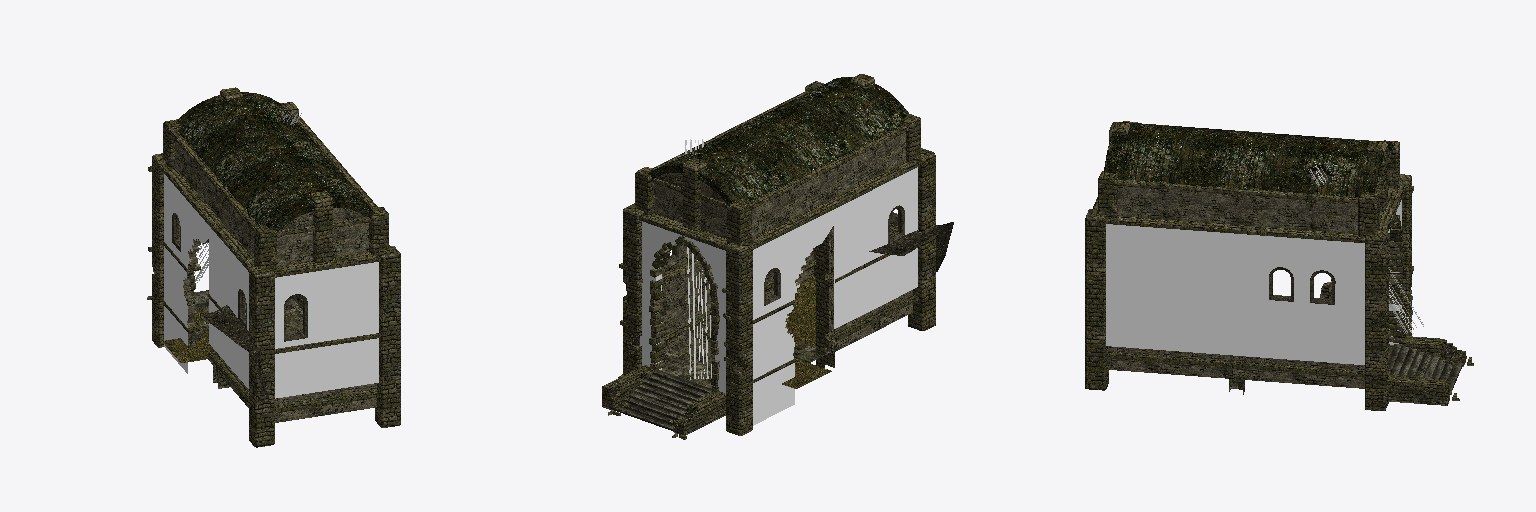
3 renders of one model, left to right at view 1: azimuth 30°, elevation 25°; view 2: azimuth 150°, elevation 25°; view 3: azimuth 270°, elevation 25°, orthographic.
Parts seen in each view (by area): view 1: mesh6, mesh2, mesh5, mesh7, mesh4, mesh9, mesh3, mesh1, mesh0; view 2: mesh5, mesh6, mesh2, mesh4, mesh7, mesh10, mesh1, mesh0, mesh9, mesh11, mesh3; view 3: mesh6, mesh5, mesh2, mesh4, mesh7, mesh10, mesh3.
Part boxes in pixels (x1,y1,x2,y2): mesh6: (164,174,378,398); mesh2: (177,92,375,231); mesh5: (147,92,400,447); mesh7: (152,87,400,412); mesh4: (175,141,376,422); mesh9: (201,305,271,405); mesh3: (172,213,307,341); mesh1: (162,308,212,362); mesh0: (195,299,302,367); mesh5: (602,80,935,439); mesh6: (640,167,917,425); mesh2: (648,77,909,204); mesh4: (654,132,912,354); mesh7: (602,74,934,410); mesh10: (614,370,711,430); mesh1: (705,276,831,388); mesh0: (660,328,828,388); mesh9: (612,222,953,422); mesh11: (685,139,711,379); mesh3: (667,205,904,305); mesh6: (1106,200,1401,364); mesh5: (1085,127,1473,410); mesh2: (1104,122,1393,196); mesh4: (1108,150,1392,388); mesh7: (1086,121,1448,385); mesh10: (1389,344,1461,390); mesh3: (1269,267,1335,304).
Bounding box in the file's own units: 13.47 × 16.53 × 23.77.
12 materials, 9 textured.